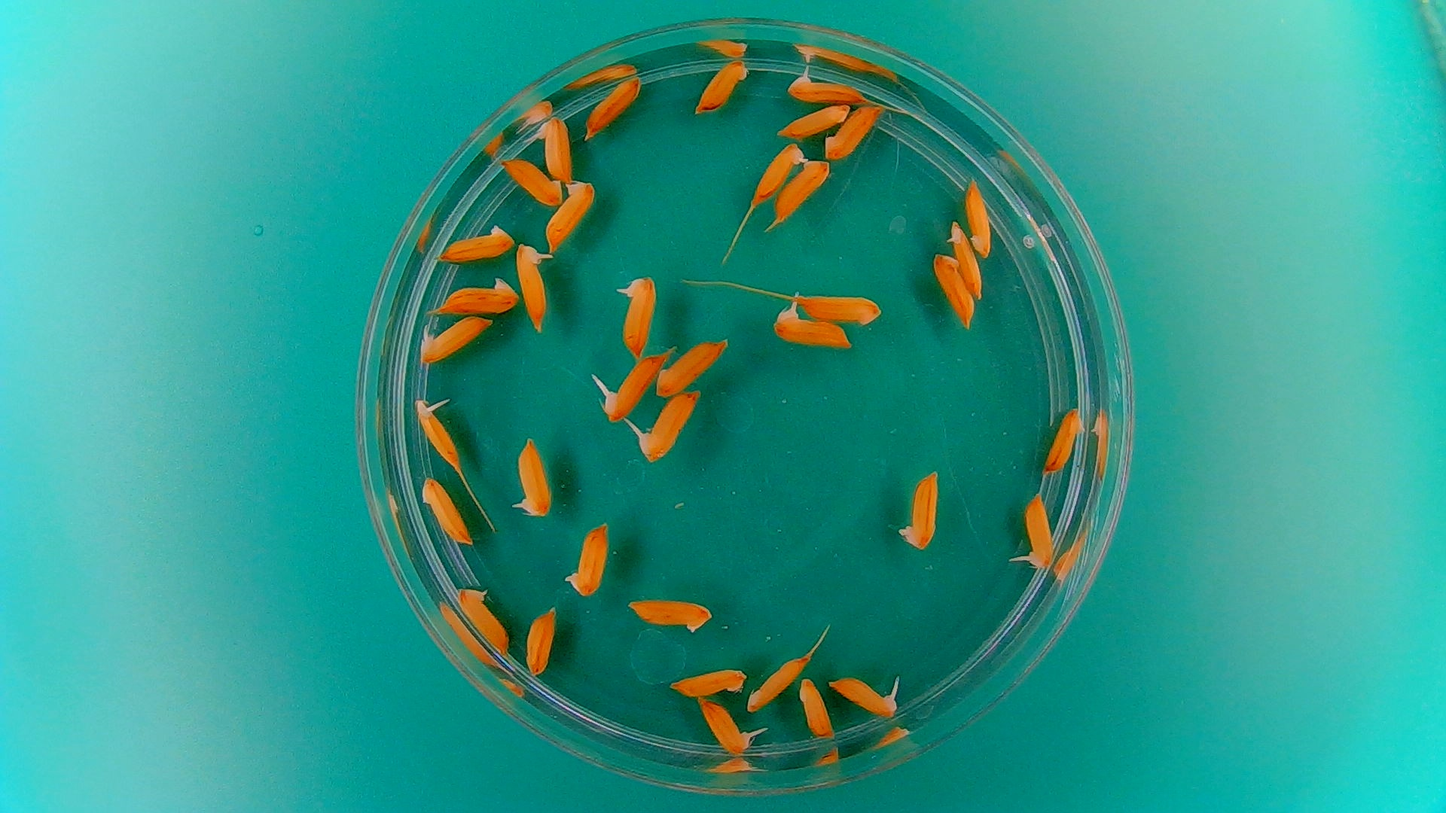no: (654, 336, 731, 397), (561, 516, 613, 598), (455, 583, 511, 659), (419, 478, 475, 553), (746, 648, 810, 711), (433, 274, 521, 318), (543, 178, 596, 251), (585, 75, 644, 140), (433, 220, 518, 265), (897, 467, 941, 553), (773, 158, 831, 223), (626, 593, 714, 635), (497, 152, 563, 207), (823, 101, 883, 161), (932, 252, 976, 333), (691, 57, 751, 116), (750, 142, 806, 205), (791, 290, 886, 327), (773, 99, 853, 142), (1042, 405, 1088, 473), (667, 663, 748, 698), (522, 602, 558, 678), (796, 673, 835, 740), (966, 175, 997, 257)
yes: (600, 354, 667, 422), (638, 391, 700, 461), (416, 314, 496, 364), (695, 696, 761, 756), (823, 672, 899, 720), (619, 271, 659, 358), (417, 400, 464, 473), (514, 437, 554, 519), (515, 238, 549, 334), (783, 67, 867, 105), (531, 117, 575, 184), (769, 311, 846, 349), (947, 218, 982, 300), (1022, 495, 1056, 568)
